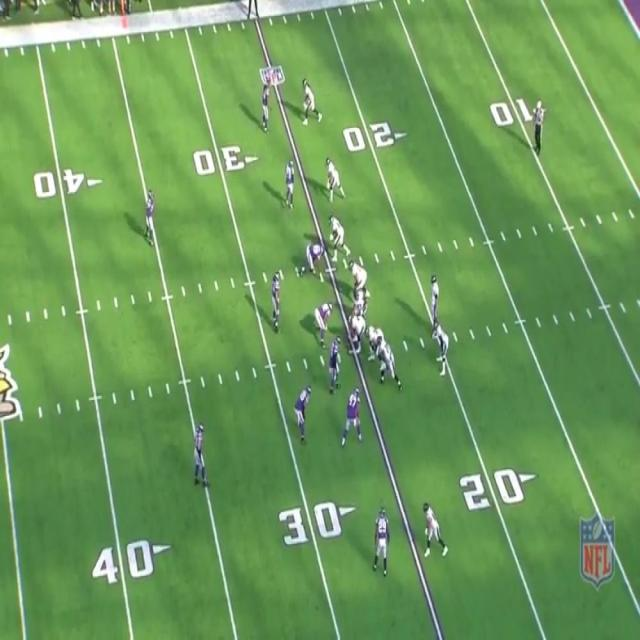center: (346, 312, 364, 355)
db: (190, 418, 211, 484), (376, 510, 388, 572), (258, 79, 271, 128), (285, 162, 297, 203), (146, 193, 155, 244)
lb: (294, 384, 308, 442), (272, 274, 283, 330)
qb: (429, 272, 442, 324)
skill: (296, 78, 322, 124), (327, 212, 353, 257), (425, 504, 444, 562), (435, 321, 453, 371), (326, 160, 346, 203)
